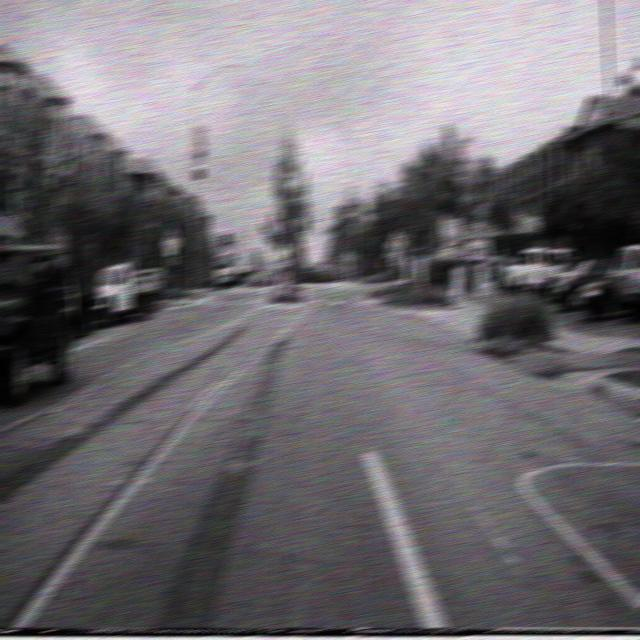pedestrianCrossing: (387, 227, 406, 257)
yield: (291, 215, 306, 234)
